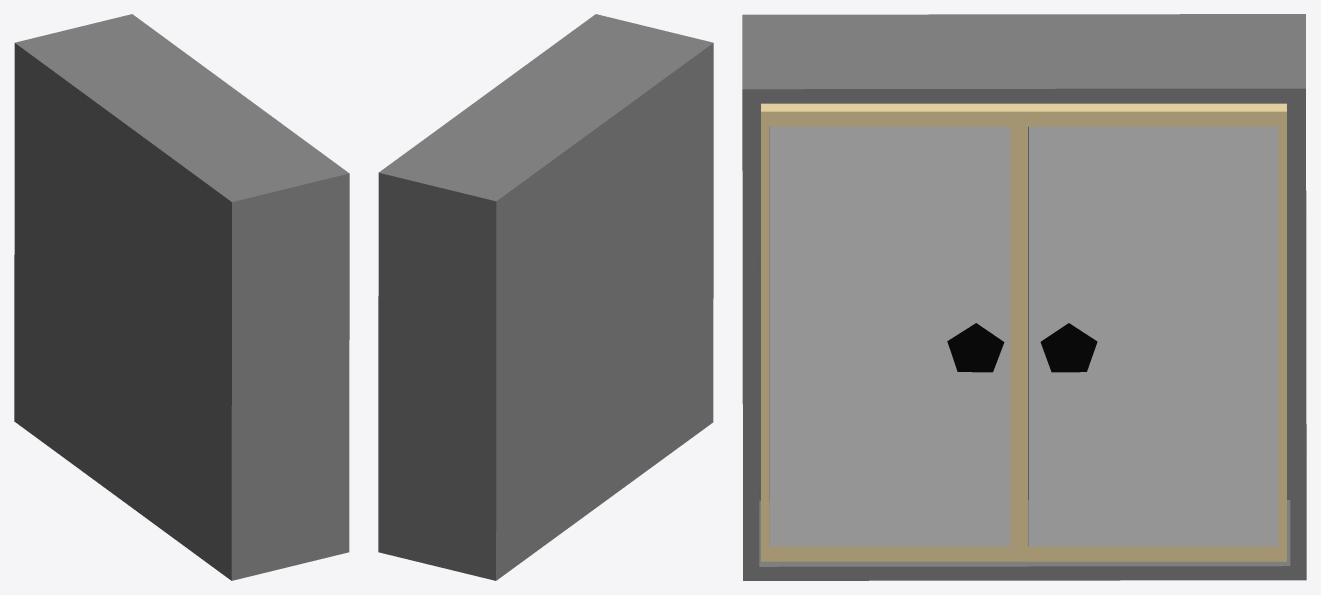
The model's file is CupboardGlass.fbx.
3 renders of one model, left to right at view 1: azimuth 30°, elevation 25°; view 2: azimuth 150°, elevation 25°; view 3: azimuth 270°, elevation 25°, orthographic. The views are drawn at different scales.
Visible parts, largest first — view 1: Cube; view 2: Cube; view 3: Cube.001, Cube.003, Cube, Cube.004, Cube.002, Cone.001, Cone.
Boxes of the visible parts, <box> form: Cube: <box>14,14,349,580</box>; Cube: <box>378,14,713,580</box>; Cube.001: <box>1029,126,1278,546</box>; Cube.003: <box>769,126,1010,546</box>; Cube: <box>742,14,1306,580</box>; Cube.004: <box>1019,103,1286,561</box>; Cube.002: <box>761,103,1018,561</box>; Cone.001: <box>1040,323,1097,372</box>; Cone: <box>947,323,1004,372</box>.
Bounding box in the file's own units: 309 × 799 × 830.
